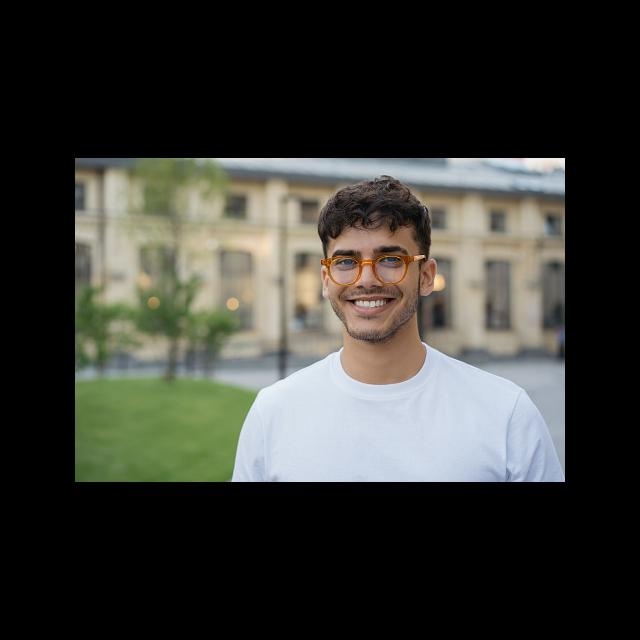male: (259, 174, 471, 345)
